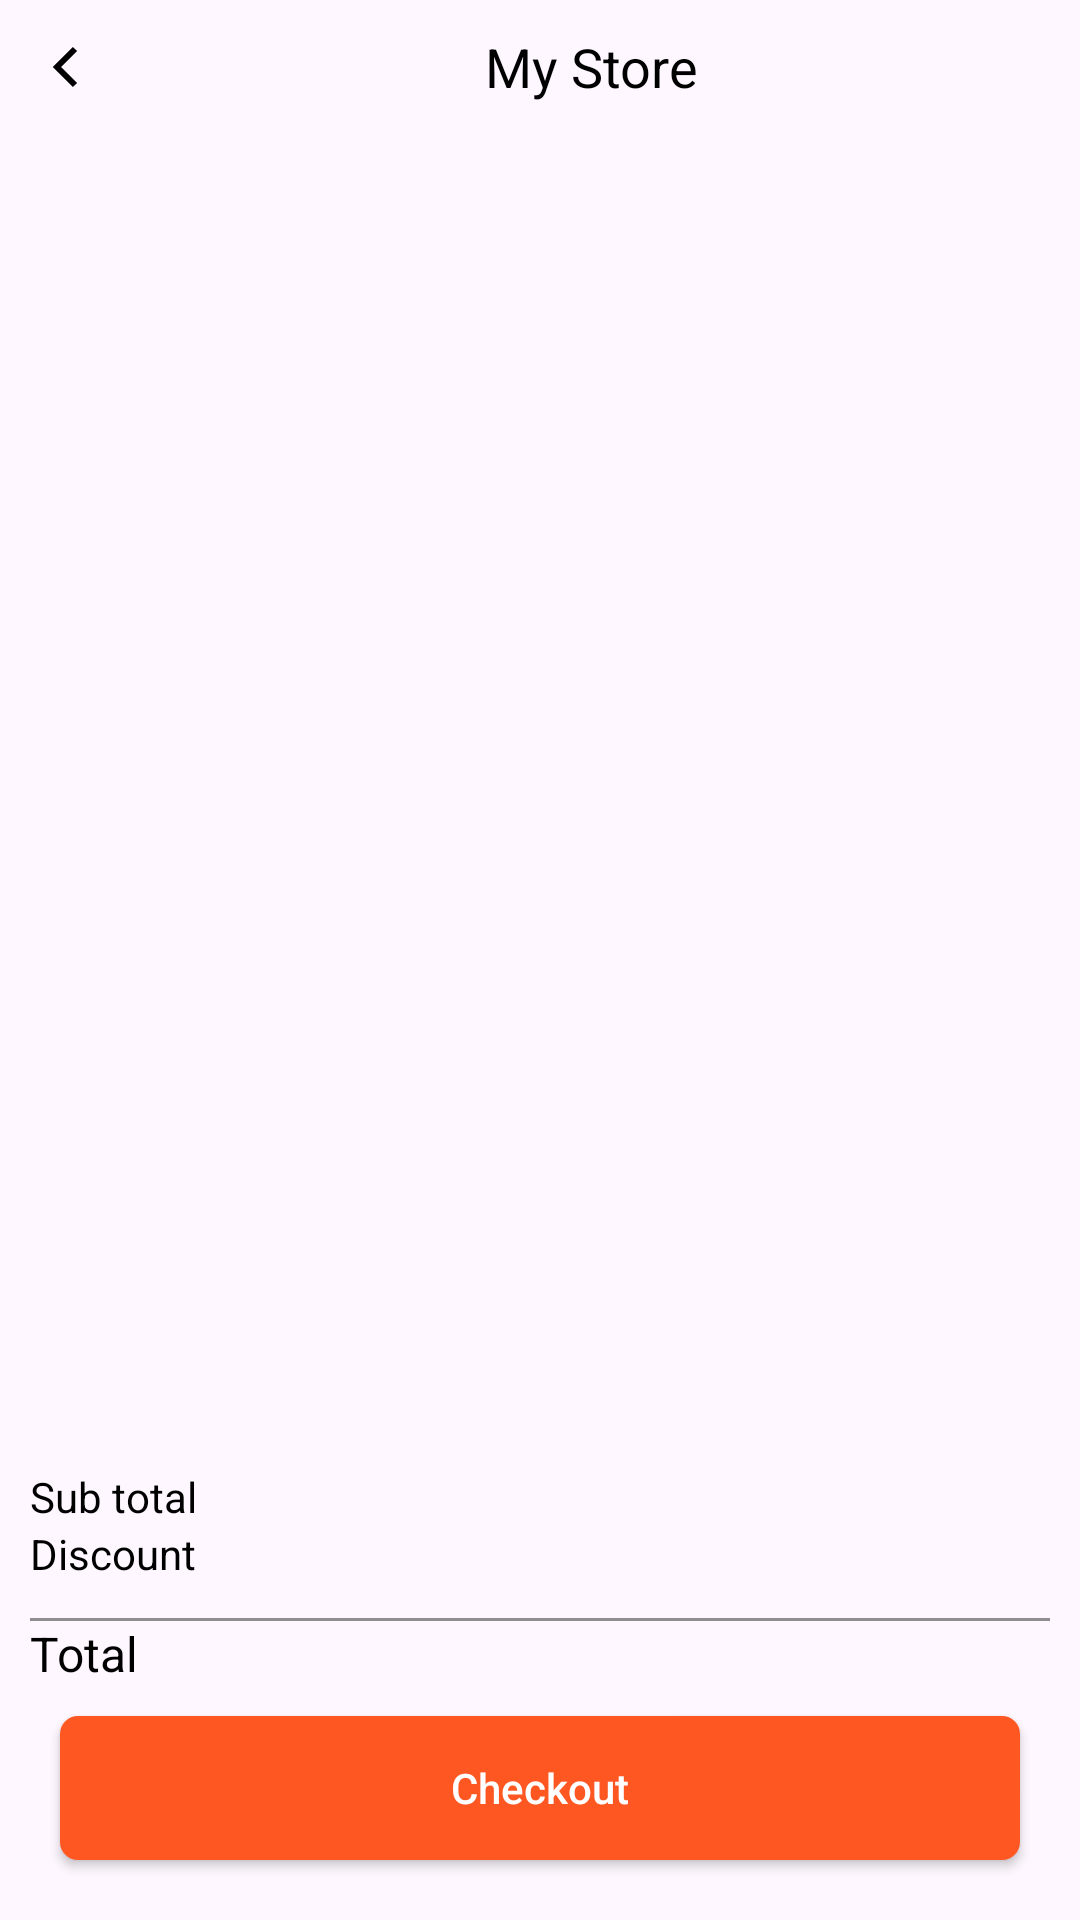

Icons on this 1080 × 1920 Android screen, each with its box as (x1, y1, x2, y2):
expand left: (53, 47, 77, 87)
